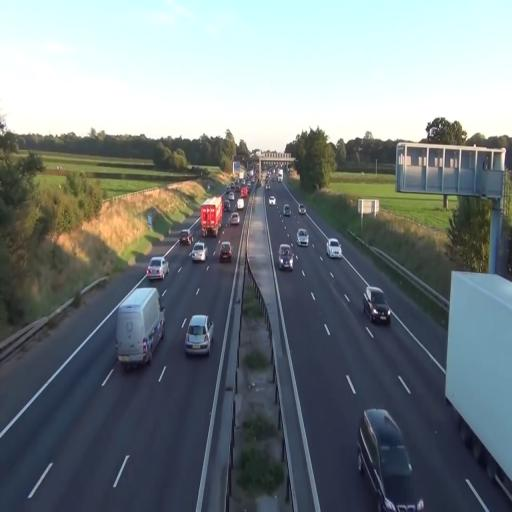vehicle: (358, 408, 414, 512), (115, 284, 165, 370), (115, 284, 165, 369), (362, 284, 392, 325), (184, 314, 212, 356), (200, 198, 223, 239), (146, 254, 169, 283), (278, 242, 294, 271), (190, 242, 207, 264), (326, 238, 342, 258), (218, 240, 232, 261), (297, 228, 309, 246)
